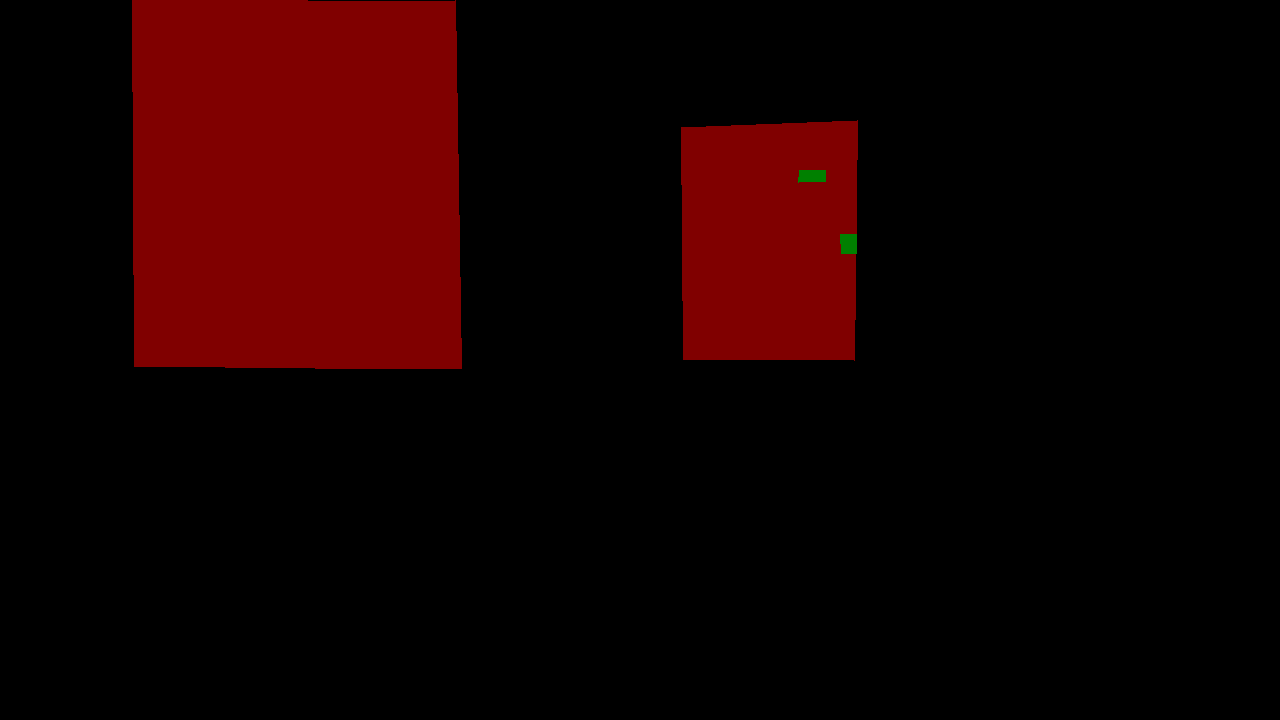door: (132, 0, 315, 368), (308, 0, 461, 368), (681, 120, 857, 360)
sign: (798, 170, 825, 182), (840, 234, 856, 253)
